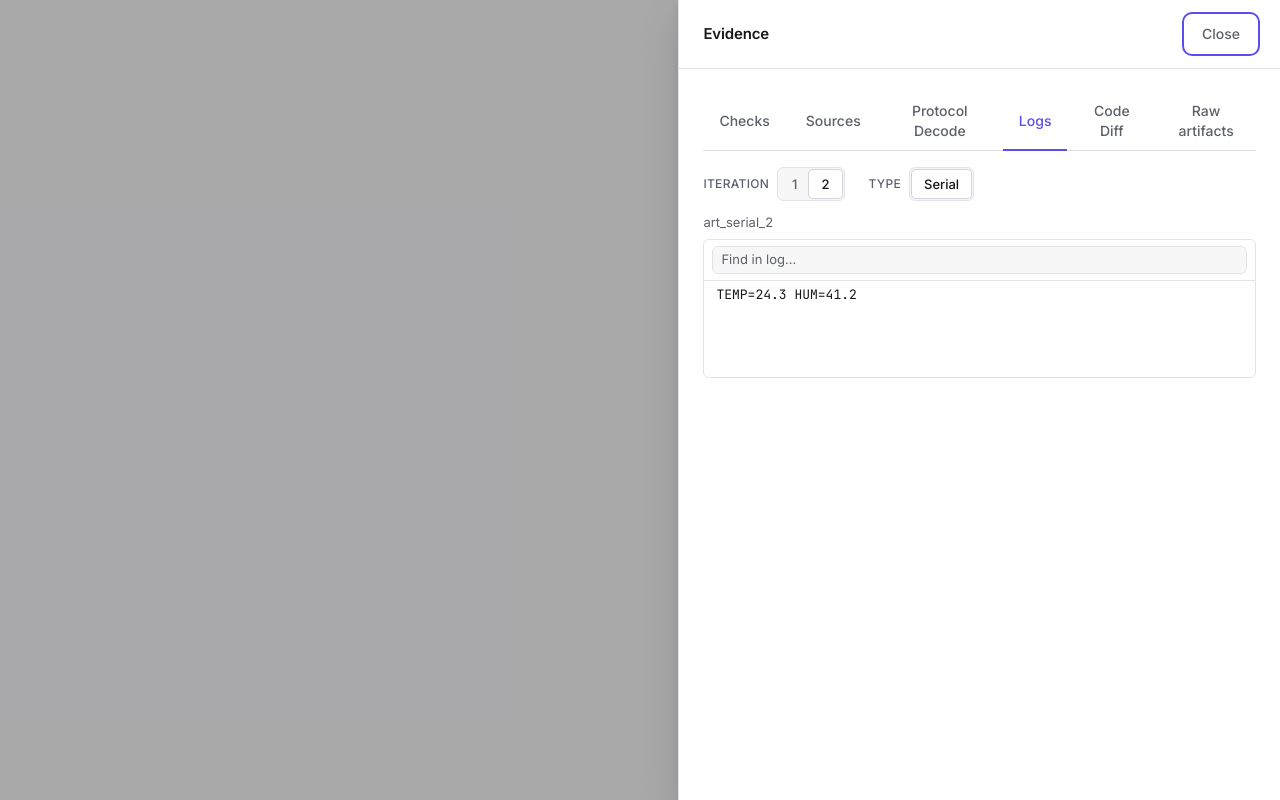
Test: EvidenceDrawer deep links (?artifact=…) › the other iteration’s serial log stays reachable via the Iteration selector
Click the button "1". click: (795, 184)
box: top-left (780, 170), bottom-right (810, 198)
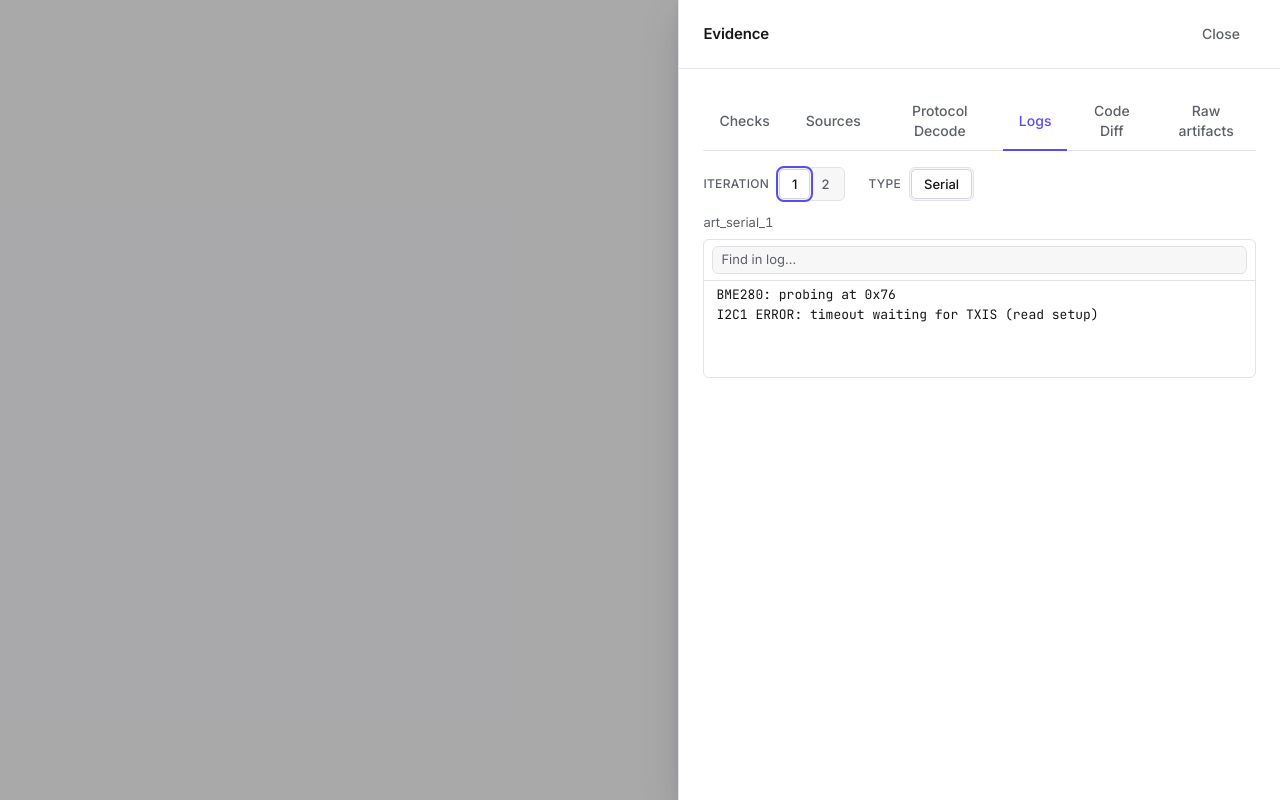
Check: the element named "art_serial_1" shows "BME280: probing at 0x76", box top-left (716, 286), bottom-right (896, 303)
